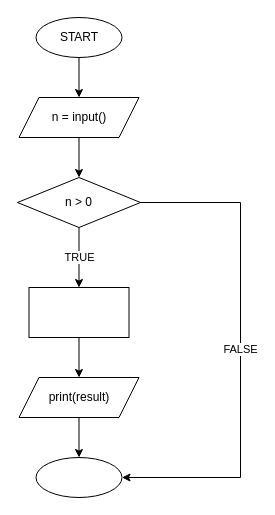
The diagram is 275 pixels wide and 515 high, and some of its shapes have lost their labels. Here are the shapes that lost their labels. From the top down, the centre of each, then its label:
At point 78,312: "result = n**2".
At point 78,477: "STOP".
